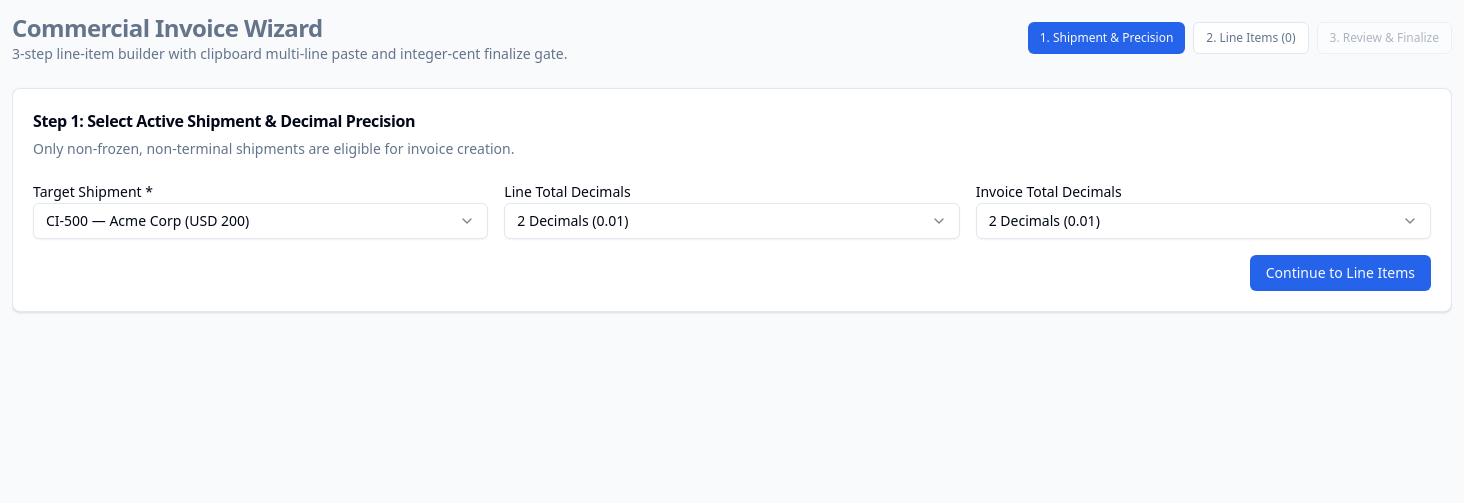
Test case: Stage 5 Shipments & Invoice Wizard UI › walks through 3-step Invoice Wizard and disables Finalize when line sum mismatches
Click the button "Continue to Line Items": click(1340, 273) [1250, 255, 1431, 291]
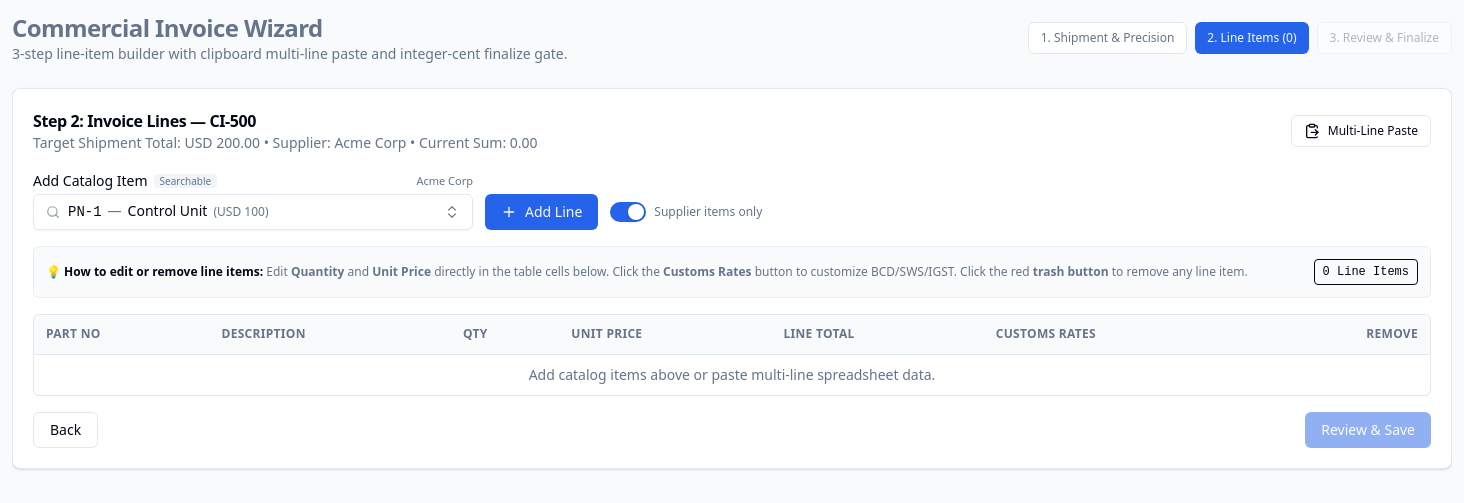
Click the button "Add Line": click(542, 212) [485, 194, 598, 230]
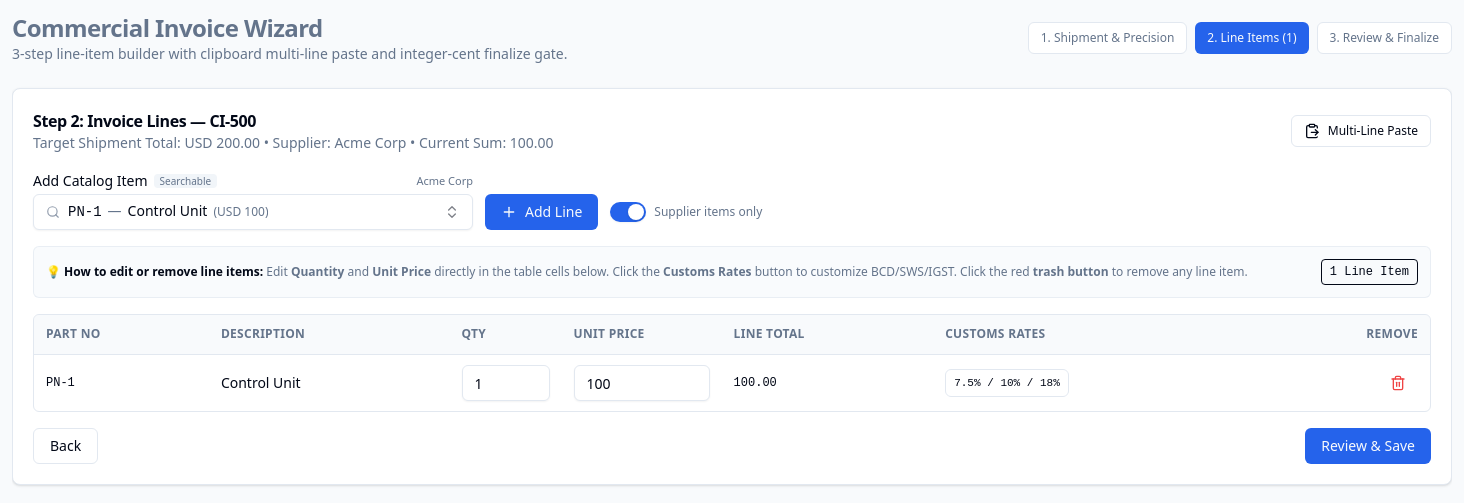
Click the button "Review & Save": click(1368, 446) [1305, 428, 1431, 464]
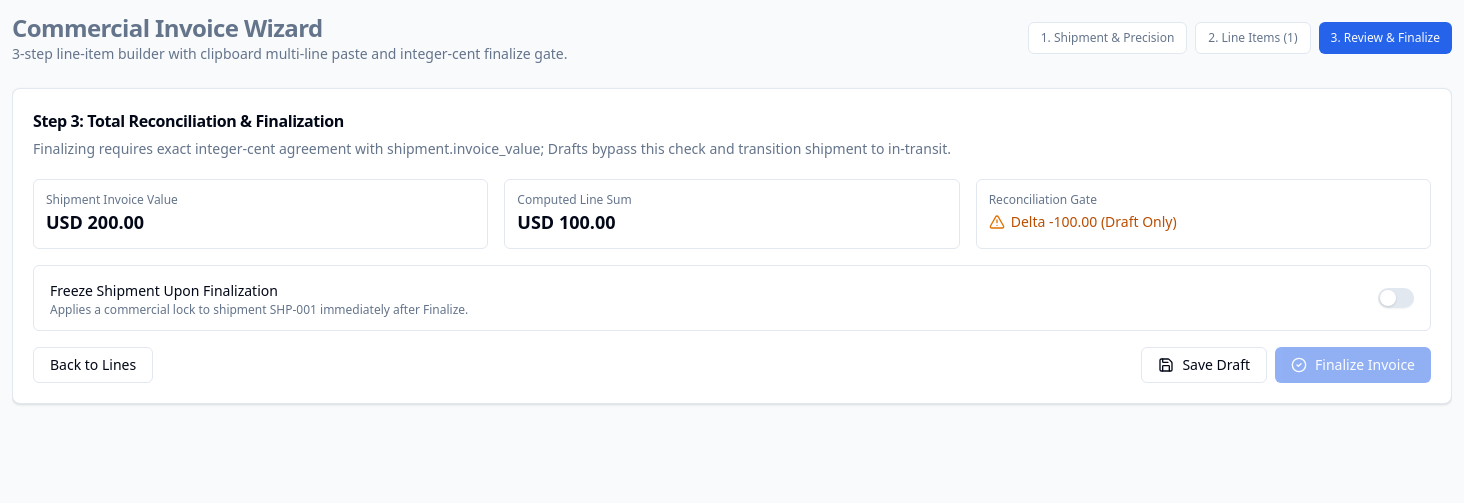
Expected: the text "Delta -100.00 (Draft Only)" is shown, [1011, 212, 1177, 232]
Expected: the button "Finalize Invoice" is disabled, [1275, 347, 1431, 383]
Expected: the button "Save Draft" is enabled, [1141, 347, 1267, 383]
